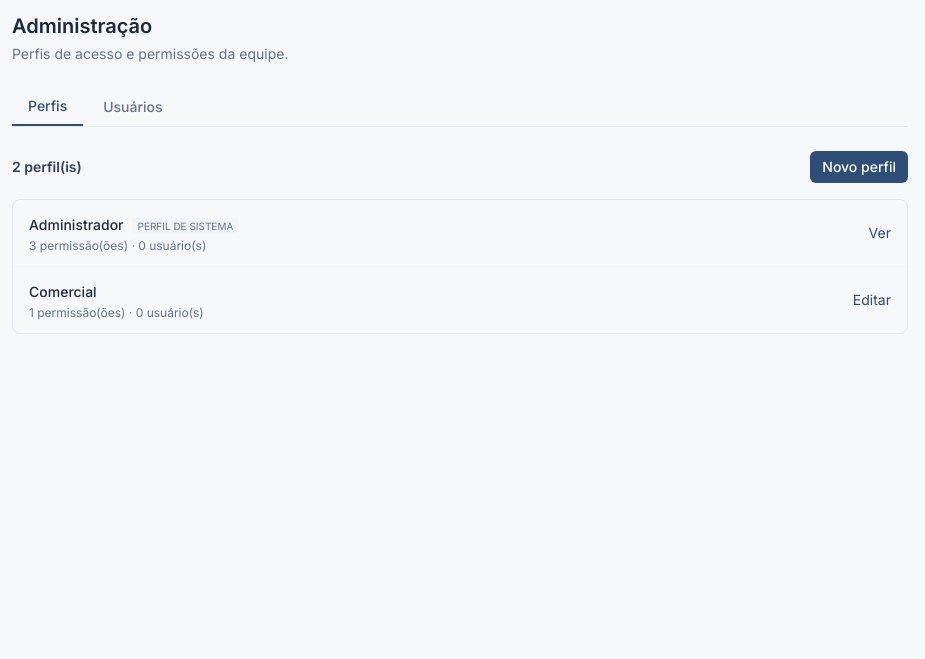
Test: AdminPage (spec 004) › aba Perfis: checklist agrupado por recurso; perfil de sistema é somente leitura
Click the button "Ver": coordinates (880, 233) [869,223,891,243]
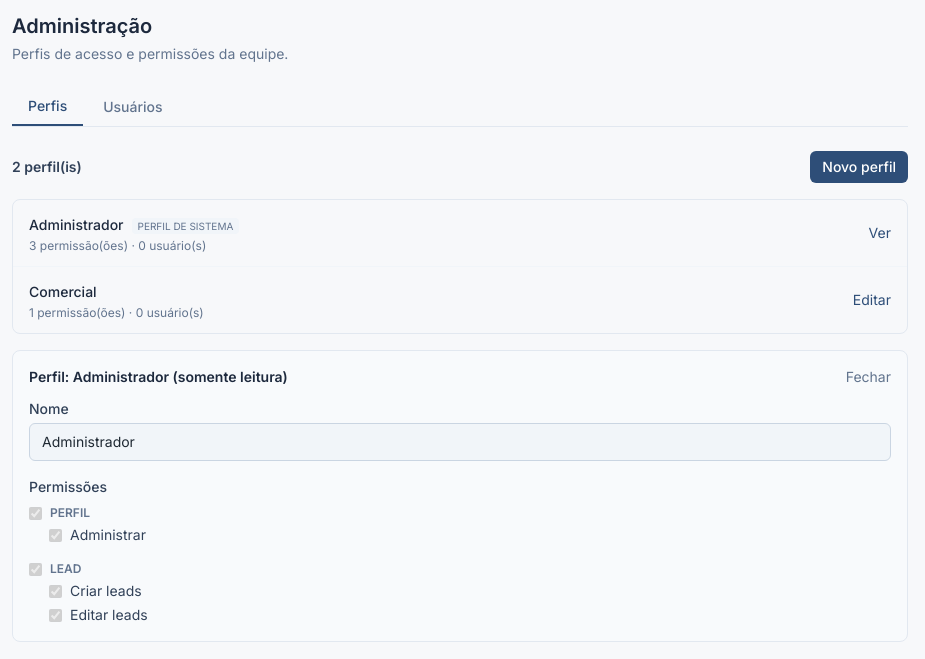
Expected: the heading "Perfil: Administrador (somente leitura)" is shown, [29,367,288,387]
Expected: the field is disabled, [29,423,891,461]
Expected: the element showing "Permissões perfil Administrar lead Criar leads Editar leads" is disabled, [29,478,148,623]
